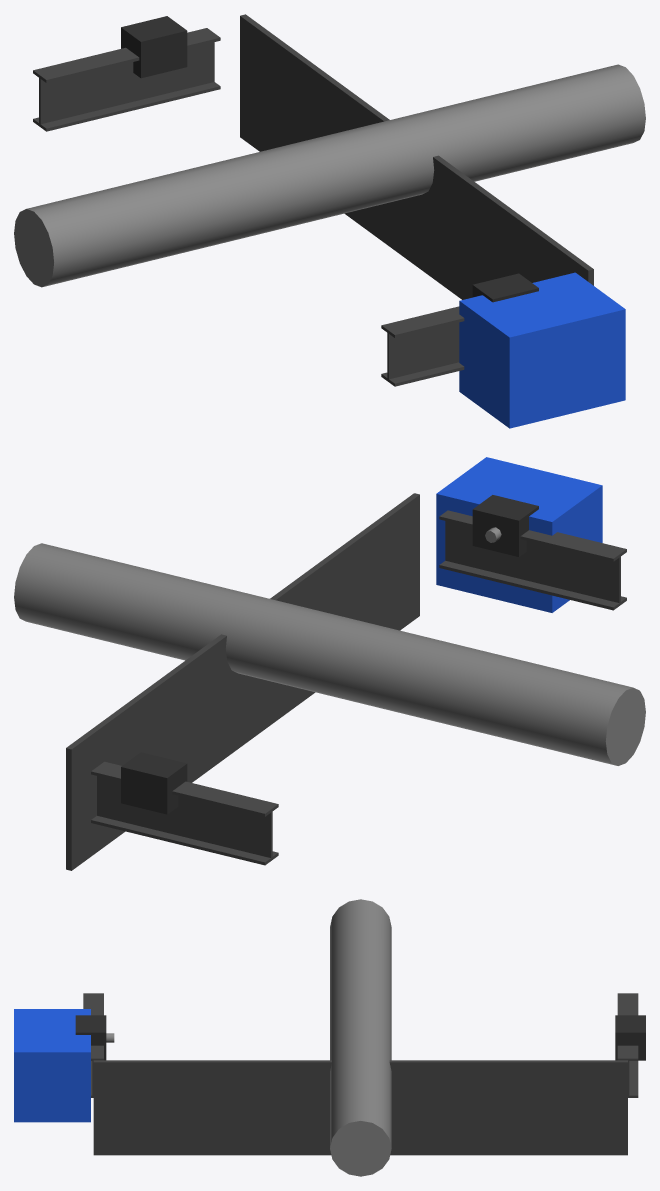
File: head-section.glb
3 renders of one model, top to bottom at view 1: azimuth 30°, elevation 25°; view 2: azimuth 150°, elevation 25°; view 3: azimuth 270°, elevation 25°, orthographic. The views are drawn at different scales.
Size of the model in its own units: 1.02 by 0.24 by 1.23.
